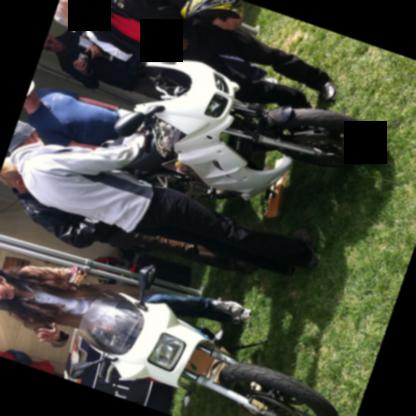handbag: (6, 349, 33, 365)
